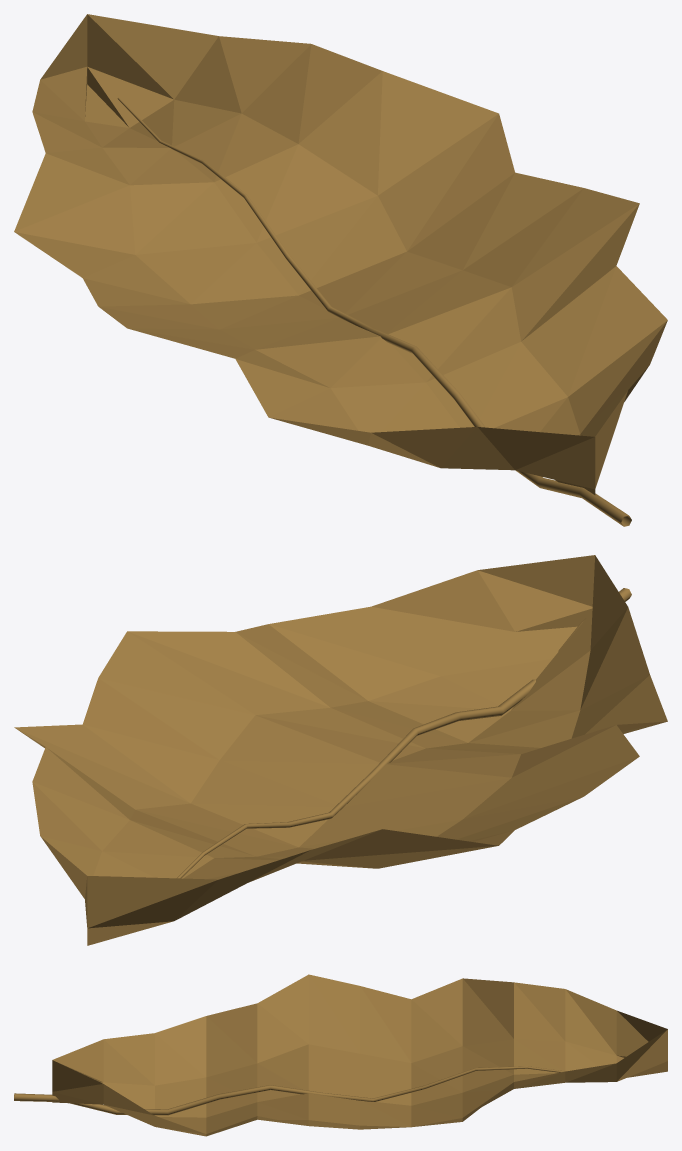
The model's file is leaf_01.glb.
3 views of the same model, one above another, from view 1: azimuth 30°, elevation 25°; view 2: azimuth 150°, elevation 25°; view 3: azimuth 270°, elevation 25° (orthographic). The views are drawn at different scales.
Visible parts, largest first — view 1: Leaf with curled edges; view 2: Leaf with curled edges; view 3: Leaf with curled edges.
Part boxes in pixels (x1,y1,x2,y2): Leaf with curled edges: (14, 14, 667, 526); Leaf with curled edges: (14, 555, 667, 945); Leaf with curled edges: (14, 974, 667, 1136).
Size of the model in its own units: 0.0612 by 0.0167 by 0.1115.
